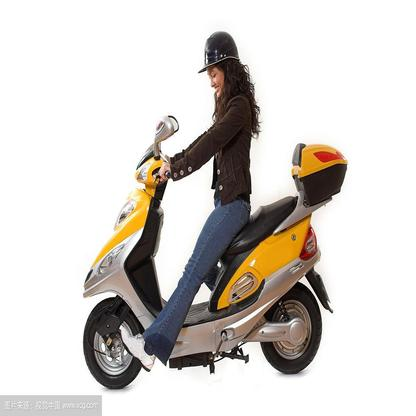target: (78, 27, 352, 385)
